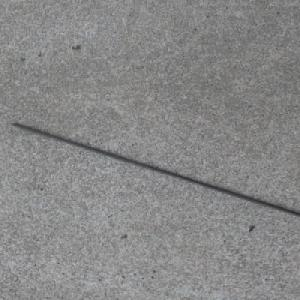LuggagePart: (9, 122, 300, 217)
